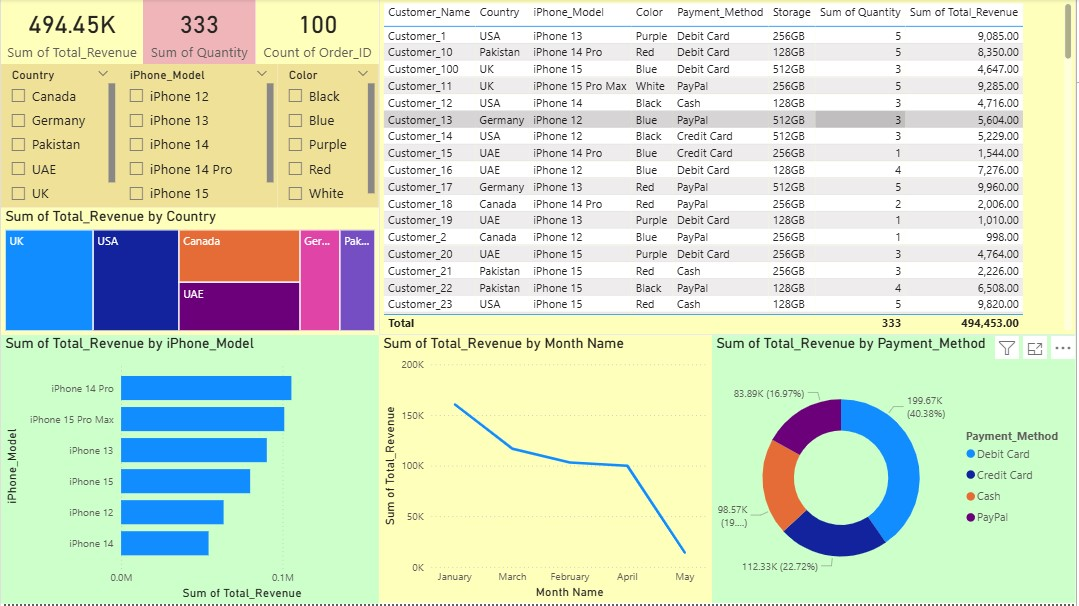

What the dashboard file says about the page in this screenshot:
{"tool":"powerbi","page":{"name":"Page 1","canvas":[1280,720],"ordinal":0},"visuals":[{"type":"card","fields":{"Values":["Sum(iphone_sales_dataset.Total_Revenue)"]},"box":[0,0,169.2,77.8],"z":0},{"type":"card","fields":{"Values":["Sum(iphone_sales_dataset.Quantity)"]},"box":[169.2,0,134.2,77.8],"z":1000},{"type":"card","fields":{"Values":["CountNonNull(iphone_sales_dataset.Order_ID)"]},"box":[303.5,0,146.9,77.8],"z":2000},{"type":"clusteredBarChart","fields":{"Category":["iphone_sales_dataset.iPhone_Model"],"Y":["Sum(iphone_sales_dataset.Total_Revenue)"]},"box":[0,399.8,450.3,320],"z":3000},{"type":"treemap","fields":{"Group":["iphone_sales_dataset.Country"],"Values":["Sum(iphone_sales_dataset.Total_Revenue)"]},"box":[0,248.9,450.1,151.2],"z":4000},{"type":"lineChart","fields":{"Y":["Sum(iphone_sales_dataset.Total_Revenue)"],"Category":["iphone_sales_dataset.Month Name"]},"box":[450.1,400.1,396.5,319.1],"z":5000},{"type":"donutChart","fields":{"Category":["iphone_sales_dataset.Payment_Method"],"Y":["Sum(iphone_sales_dataset.Total_Revenue)"]},"box":[846.6,400.1,433.4,319.1],"z":6000},{"type":"tableEx","fields":{"Values":["iphone_sales_dataset.Customer_Name","iphone_sales_dataset.Country","iphone_sales_dataset.iPhone_Model","iphone_sales_dataset.Color","iphone_sales_dataset.Payment_Method","iphone_sales_dataset.Storage","Sum(iphone_sales_dataset.Quantity)","Sum(iphone_sales_dataset.Total_Revenue)"]},"box":[450.1,0,829.9,400.1],"z":7000},{"type":"slicer","fields":{"Values":["iphone_sales_dataset.Country"]},"box":[0,77.4,140.5,171.5],"z":7001},{"type":"slicer","fields":{"Values":["iphone_sales_dataset.iPhone_Model"]},"box":[140.5,77.4,189.3,171.5],"z":7002},{"type":"slicer","fields":{"Values":["iphone_sales_dataset.Color"]},"box":[329.8,77.4,120.3,171.5],"z":7003}]}

Visuals, with their boxes in screenshot pixels (x1, y1, x2, y2), scaled from the page's 1280x720 canvas onto the 1079x606 screenshot:
card - Sum(iphone_sales_dataset.Total_Revenue): locate(0, 0, 143, 65)
card - Sum(iphone_sales_dataset.Quantity): locate(143, 0, 256, 65)
card - CountNonNull(iphone_sales_dataset.Order_ID): locate(256, 0, 380, 65)
clusteredBarChart - iphone_sales_dataset.iPhone_Model x Sum(iphone_sales_dataset.Total_Revenue): locate(0, 336, 380, 605)
treemap - iphone_sales_dataset.Country x Sum(iphone_sales_dataset.Total_Revenue): locate(0, 209, 379, 337)
lineChart - Sum(iphone_sales_dataset.Total_Revenue) x iphone_sales_dataset.Month Name: locate(379, 337, 714, 605)
donutChart - iphone_sales_dataset.Payment_Method x Sum(iphone_sales_dataset.Total_Revenue): locate(714, 337, 1078, 605)
tableEx - iphone_sales_dataset.Customer_Name x iphone_sales_dataset.Country: locate(379, 0, 1078, 337)
slicer - iphone_sales_dataset.Country: locate(0, 65, 118, 209)
slicer - iphone_sales_dataset.iPhone_Model: locate(118, 65, 278, 209)
slicer - iphone_sales_dataset.Color: locate(278, 65, 379, 209)
